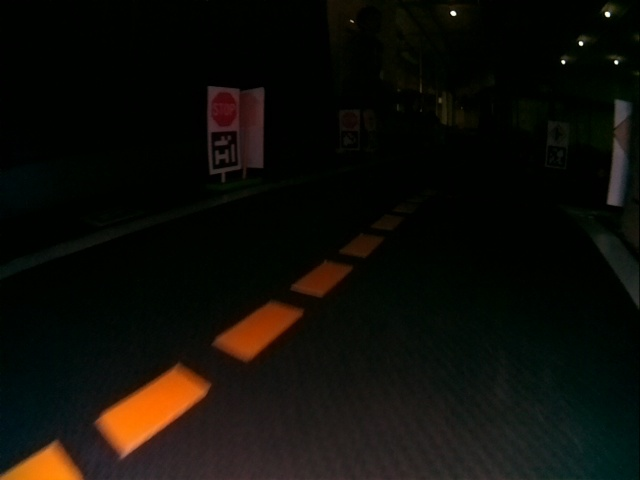Intersection sign: (547, 121, 568, 144)
QR code: (207, 130, 241, 173), (545, 145, 568, 169), (340, 130, 360, 150)
Stop sign: (207, 86, 233, 128), (340, 110, 359, 129)
